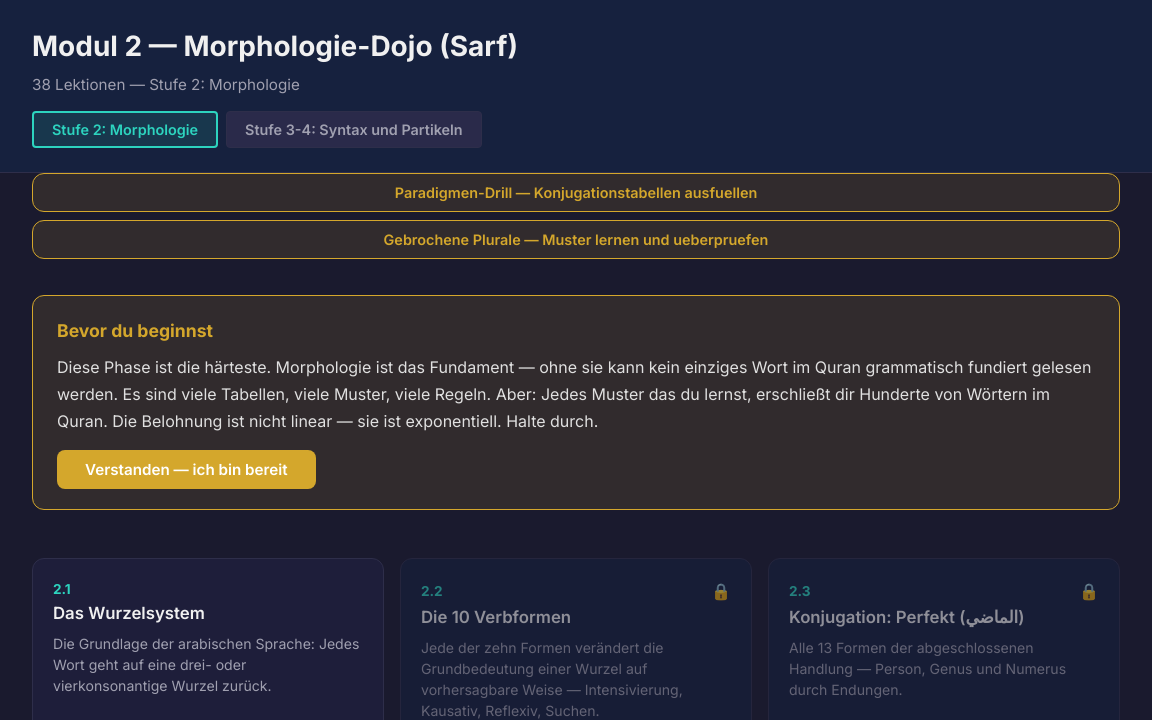
Test: Module2 — Morphologie-Dojo interactions › shows Paradigmen-Drill button only in morphology track
Note: Switch to syntax track
Click the button "Stufe 3-4: Syntax und Partikeln". click: (354, 130)
box: [226,111,482,148]
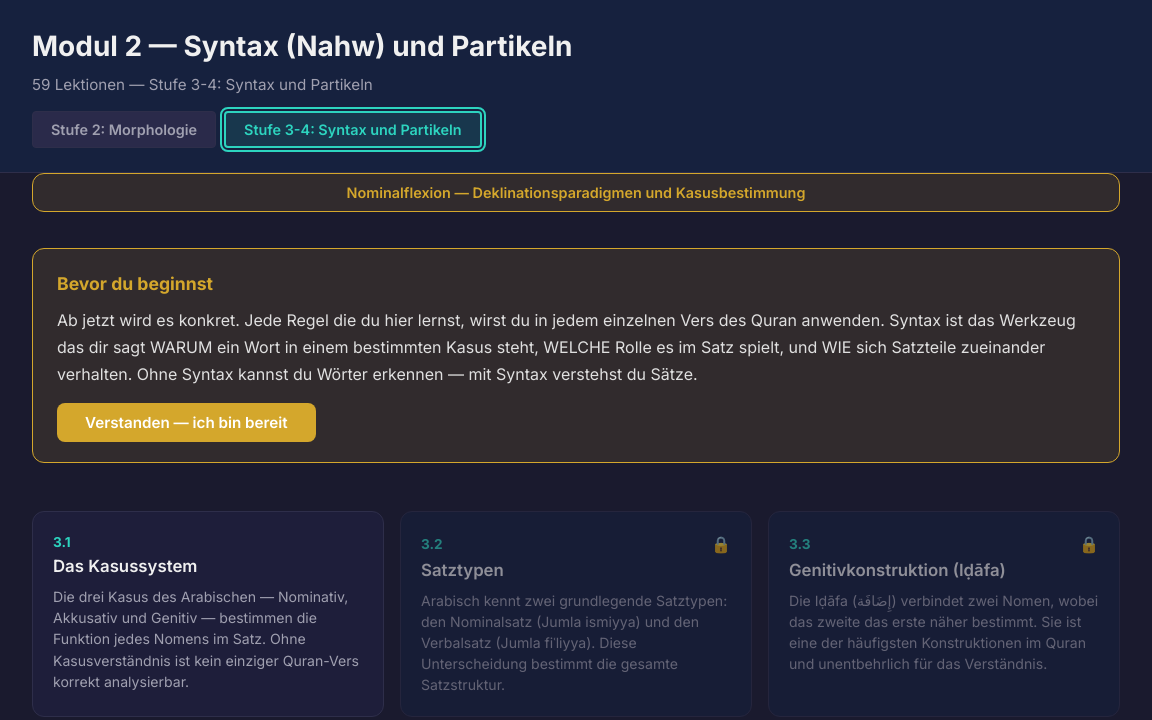
Expected: the text "3.1" is shown, [53,532,71,553]
Expected: the text "Paradigmen-Drill" is gone
